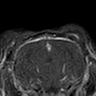Brain: (16, 41, 82, 88)
